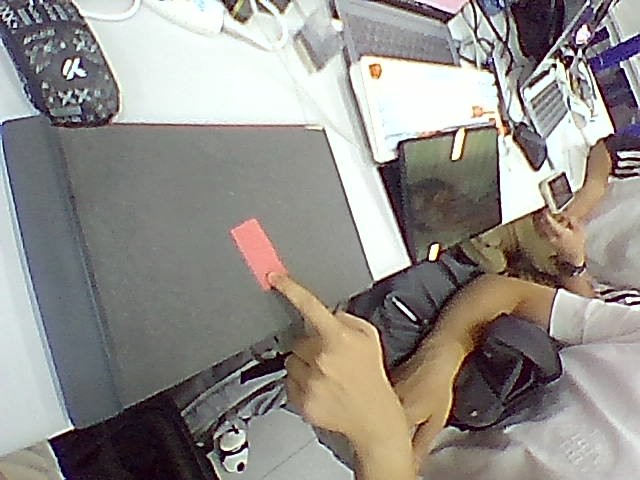card: (230, 218, 287, 289)
